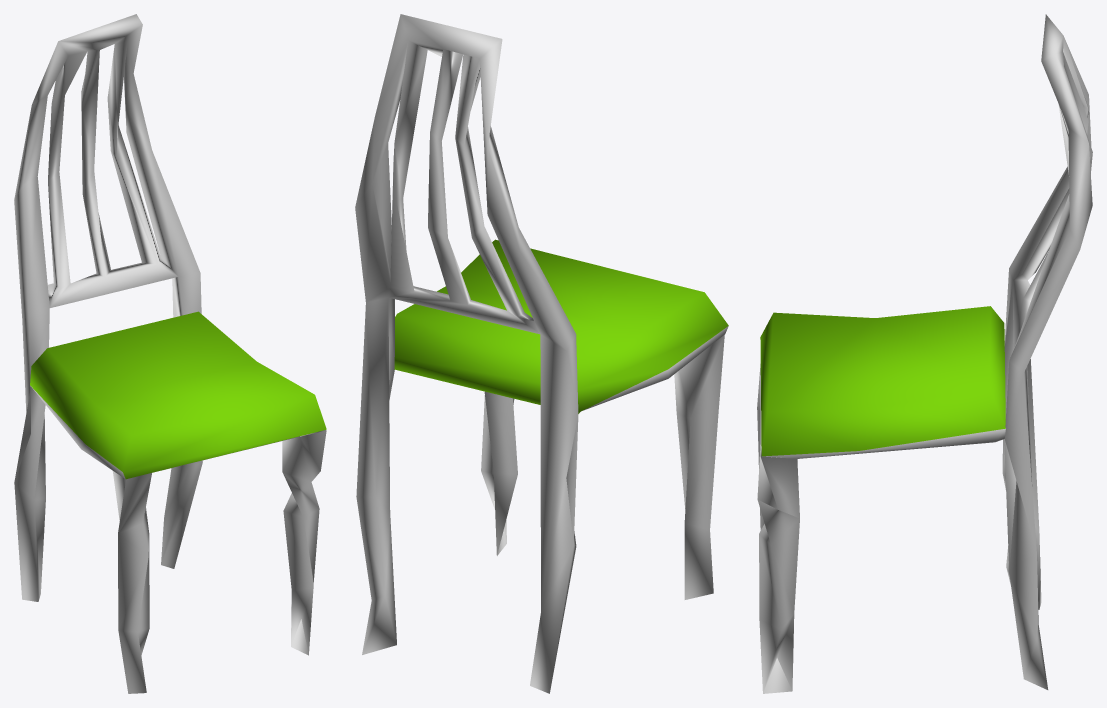
Rendered from Cushioned Char 05_COLLIDER.fbx.
The picture shows the model from 3 angles, left to right: view 1: azimuth 30°, elevation 25°; view 2: azimuth 150°, elevation 25°; view 3: azimuth 270°, elevation 25°; orthographic projection. The views are drawn at different scales.
Parts seen in each view (by area): view 1: Cushioned_Chair_05_COLLIDER; view 2: Cushioned_Chair_05_COLLIDER; view 3: Cushioned_Chair_05_COLLIDER.
Boxes of the visible parts, box(x1,y1,x2,y2) form: Cushioned_Chair_05_COLLIDER: box(14, 14, 326, 693); Cushioned_Chair_05_COLLIDER: box(355, 14, 728, 693); Cushioned_Chair_05_COLLIDER: box(757, 14, 1092, 693).
Size of the model in its own units: 58.47 by 151 by 74.28.
